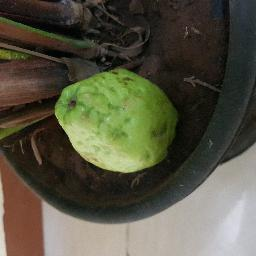Good_guava: (56, 61, 175, 180)
